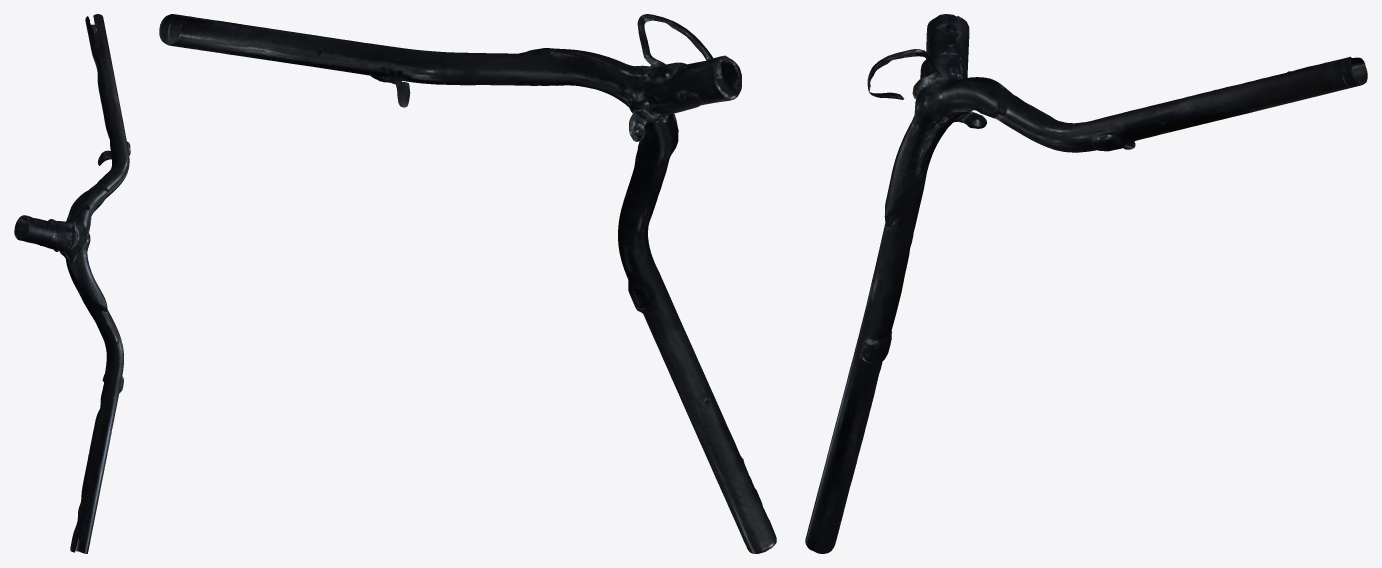
Rendered from SPD-47110X-B.obj.
3 renders of one model, left to right at view 1: azimuth 30°, elevation 25°; view 2: azimuth 150°, elevation 25°; view 3: azimuth 270°, elevation 25°, orthographic. The views are drawn at different scales.
Visible parts, largest first — view 1: SPD-47110X-B; view 2: SPD-47110X-B; view 3: SPD-47110X-B.
Boxes of the visible parts, <box> form: SPD-47110X-B: <box>14,14,130,553</box>; SPD-47110X-B: <box>159,14,776,553</box>; SPD-47110X-B: <box>805,14,1367,553</box>.
Size of the model in its own units: 290 by 508 by 408.
Materials: 1 (1 with a texture image).
